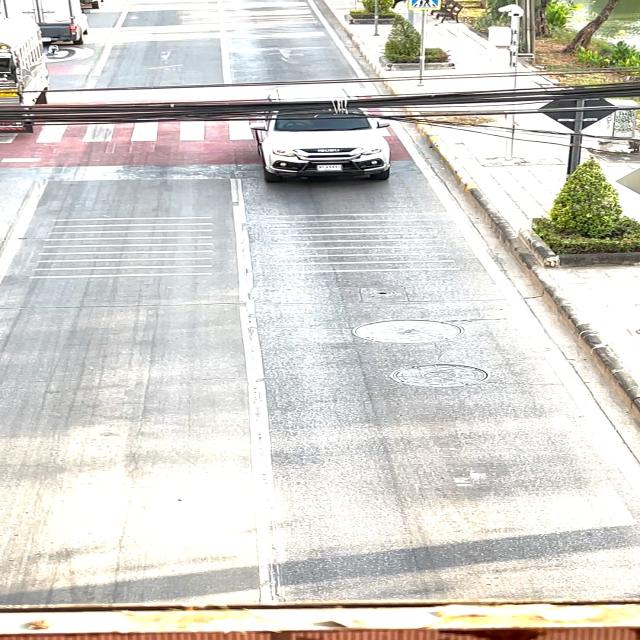car: (234, 79, 400, 183)
